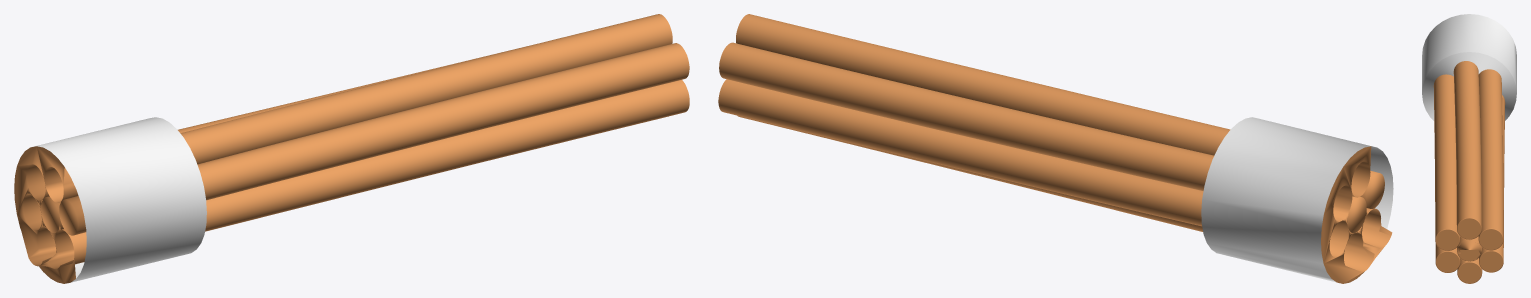
Rendered from Weißer_Kabel_Ende.glb.
3 renders of one model, left to right at view 1: azimuth 30°, elevation 25°; view 2: azimuth 150°, elevation 25°; view 3: azimuth 270°, elevation 25°, orthographic. The views are drawn at different scales.
Parts seen in each view (by area): view 1: Kabel_Ende; view 2: Kabel_Ende; view 3: Kabel_Ende.
Part boxes in pixels (x1,y1,x2,y2): Kabel_Ende: (14,14,689,283); Kabel_Ende: (718,14,1393,283); Kabel_Ende: (1422,14,1516,283).
Bounding box in the file's own units: 0.00491 × 0.000953 × 0.000987.
